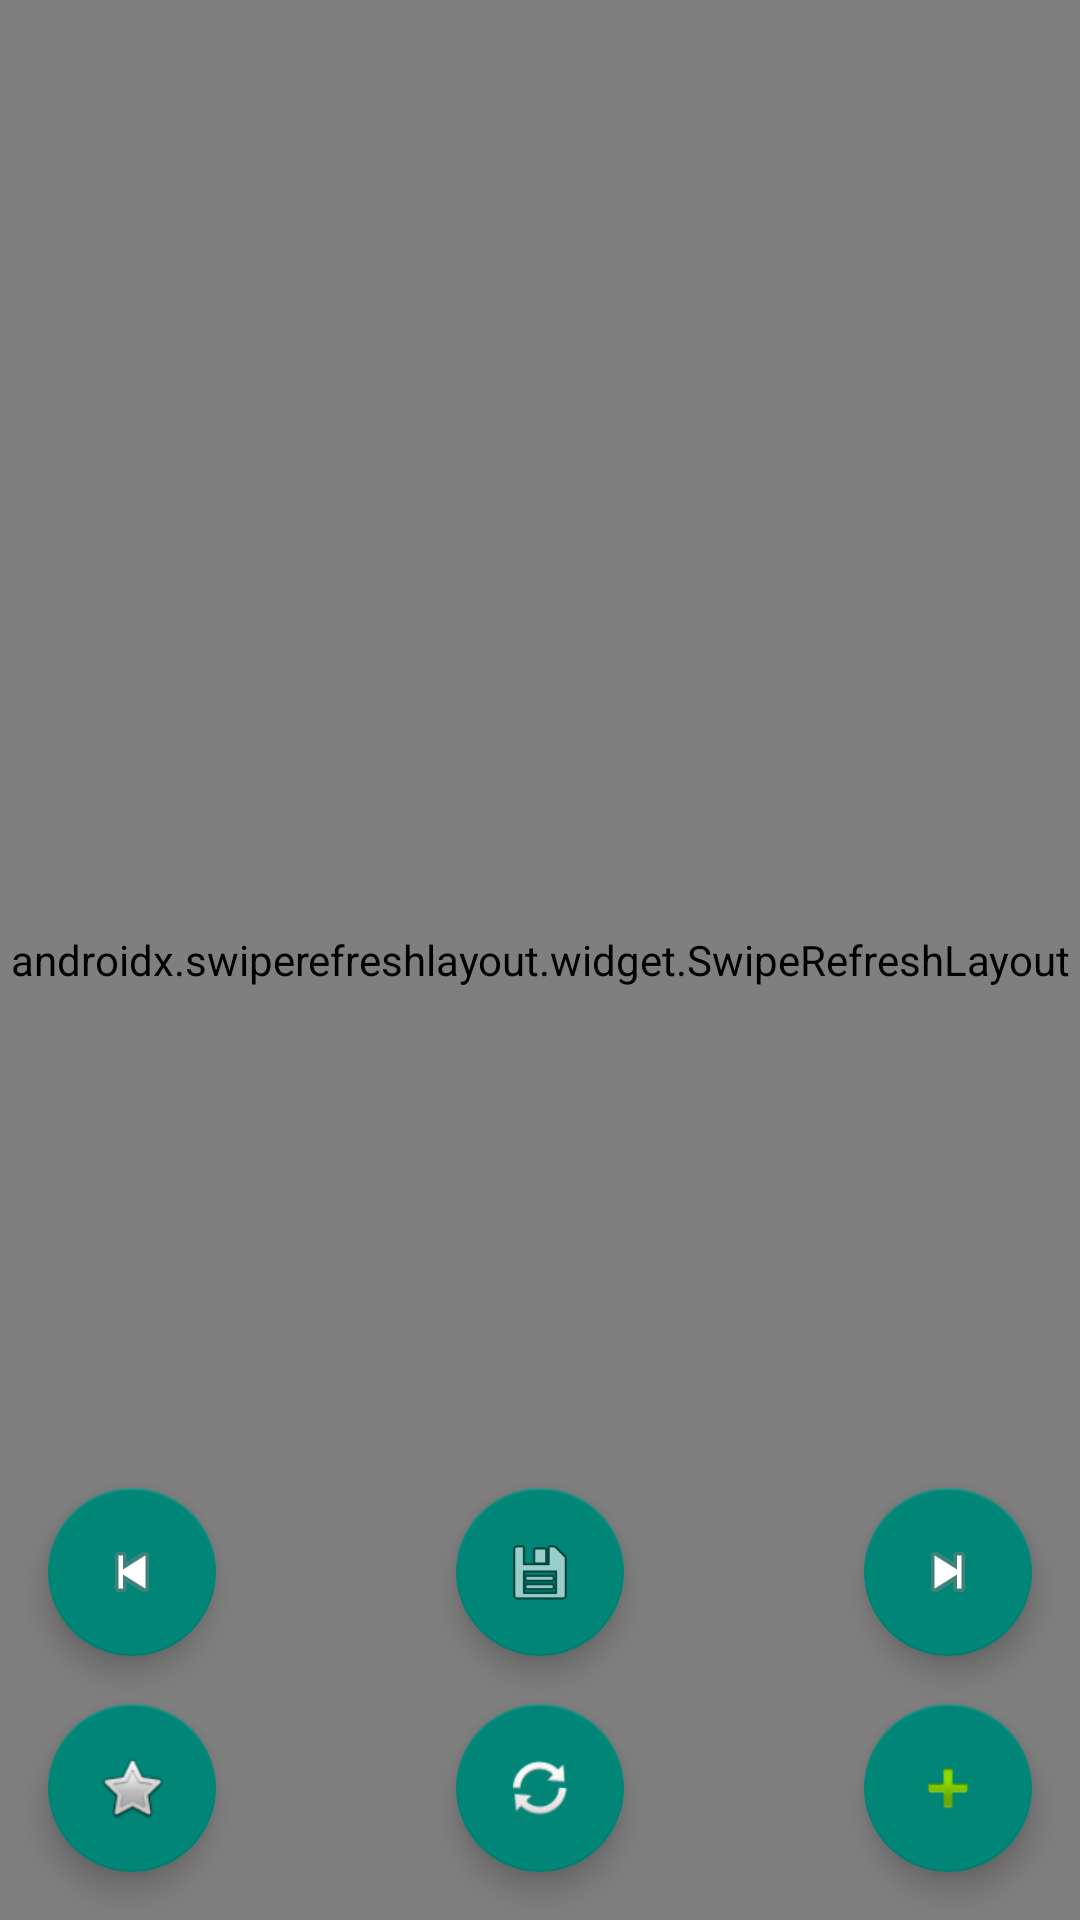

Locate icon controls on the screen. Image size 1080w x 1920h, boxes as (x1, y1, x2, y2).
Add manga: (864, 1704, 1032, 1872)
Add to favorites: (48, 1704, 216, 1872)
Next chapter: (864, 1488, 1032, 1656)
Previous chapter: (48, 1488, 216, 1656)
Refresh page: (456, 1704, 624, 1872)
Sync / Save chapters: (456, 1488, 624, 1656)
